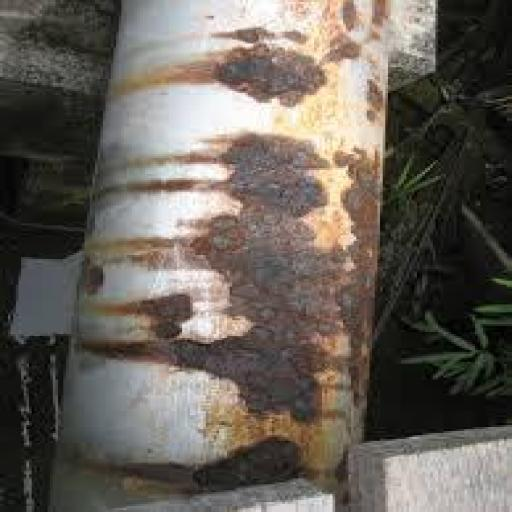corrosion: (99, 106, 445, 455), (329, 141, 433, 249), (216, 47, 319, 103), (189, 440, 296, 491)
